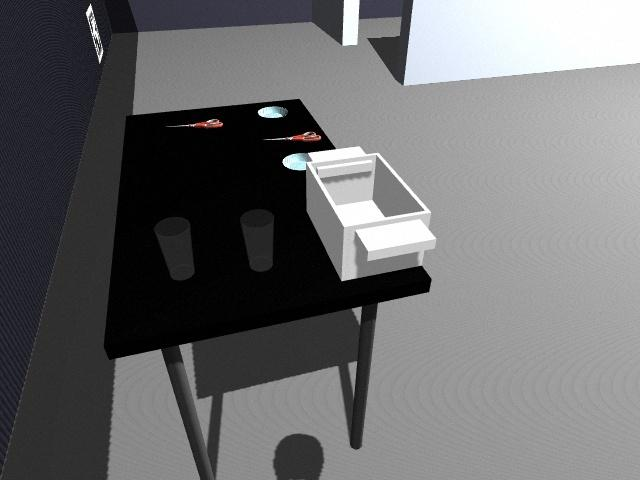cup: (154, 217, 194, 279), (239, 210, 274, 271)
plate: (280, 151, 312, 171), (257, 106, 289, 119)
scissors: (166, 119, 223, 130), (264, 131, 320, 142)
